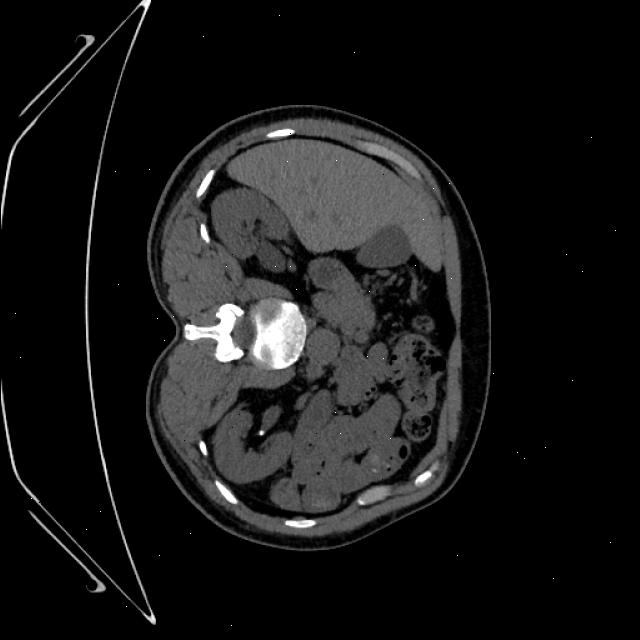kidneystone: (257, 430, 265, 435)
